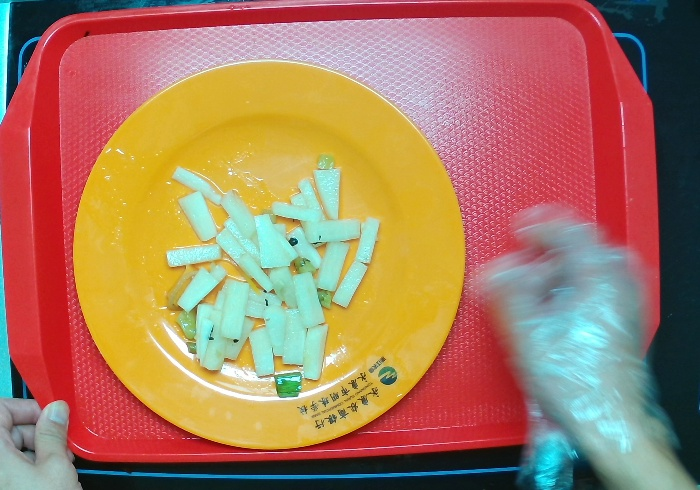YKMZ-Ju_Se_Mian_Pan: (71, 56, 466, 454)
